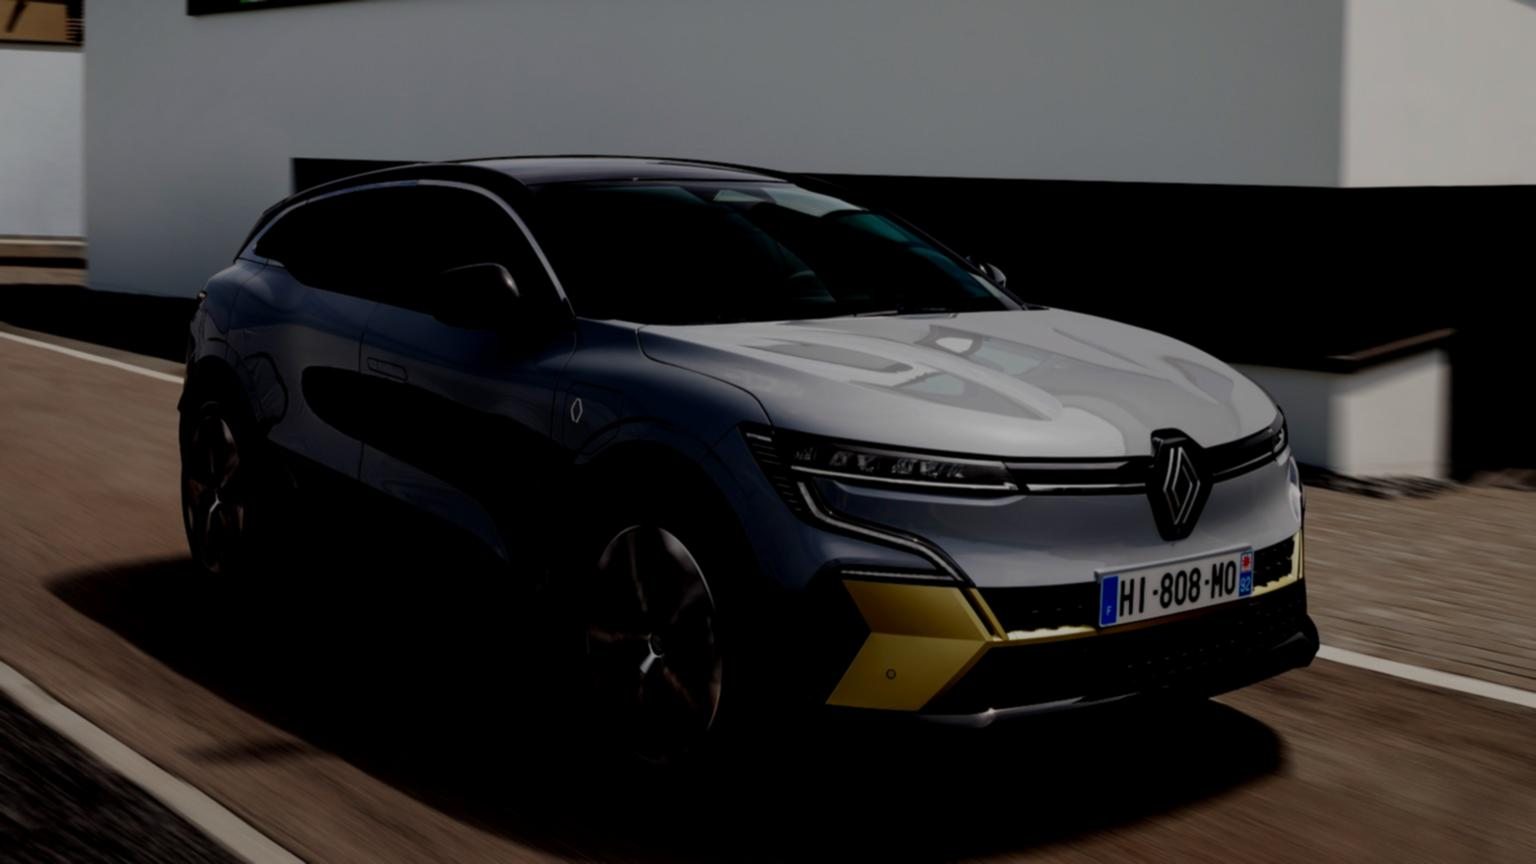Renault: (1143, 417, 1220, 552)
